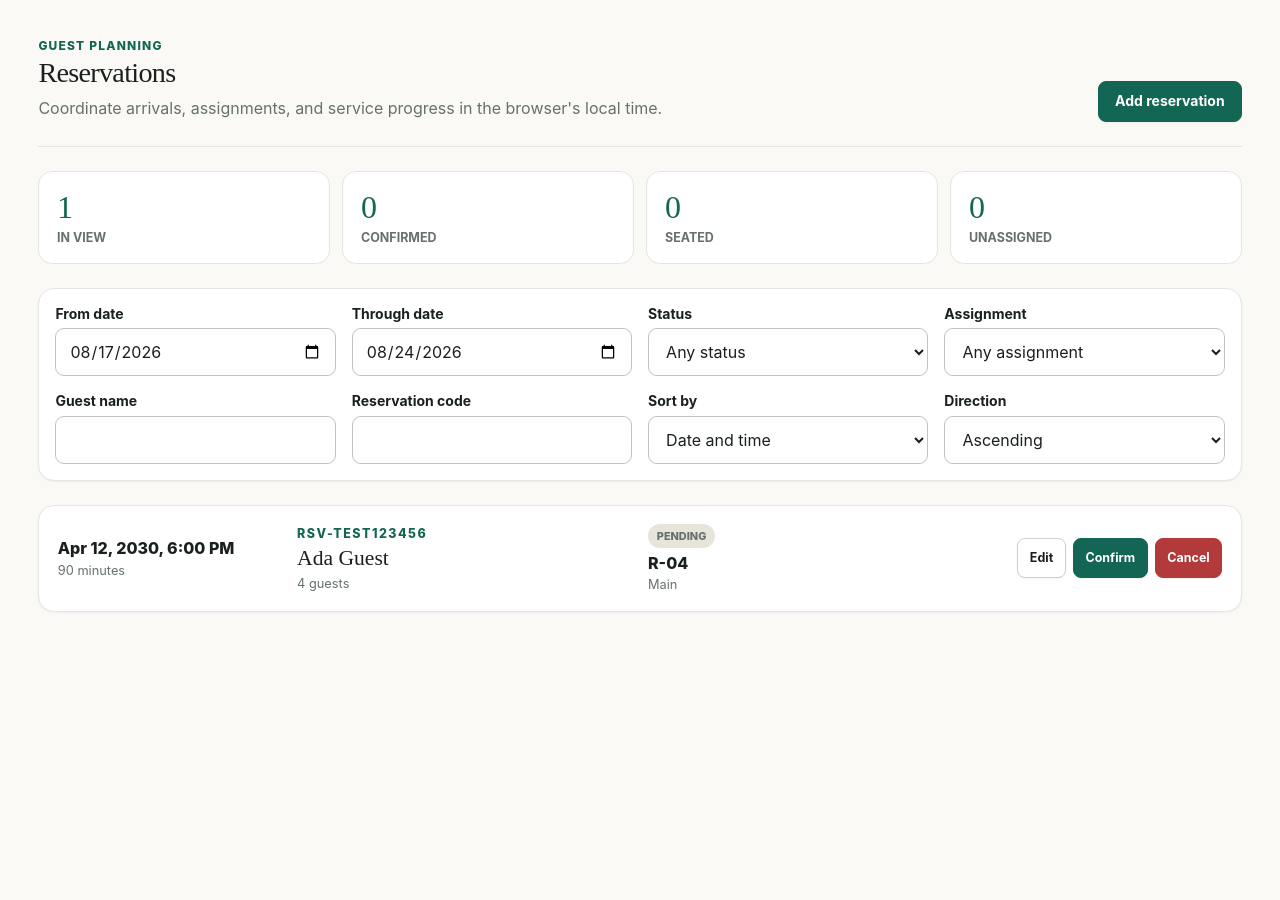
reservations page › shows a safe conflict message without exposing backend details
Check: the heading "Ada Guest" is shown, box [297, 546, 389, 570]
Click the button "Confirm" at (1110, 558), box [1073, 538, 1148, 578]
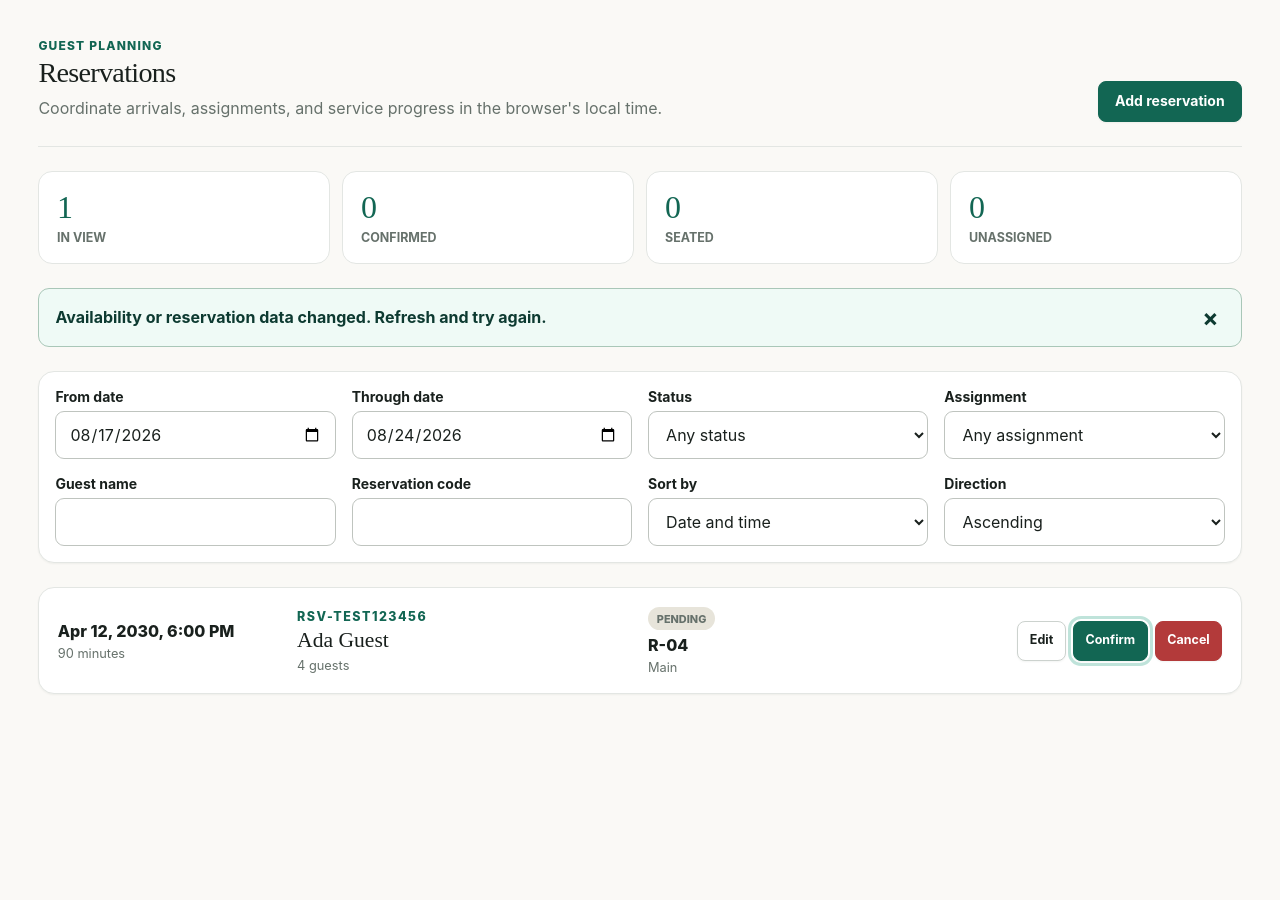
Check: the message shows "data changed", box [55, 307, 547, 327]
